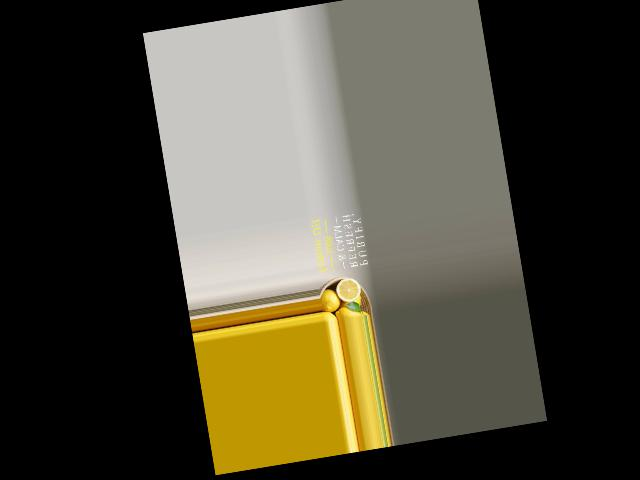lemon: (318, 288, 342, 313)
